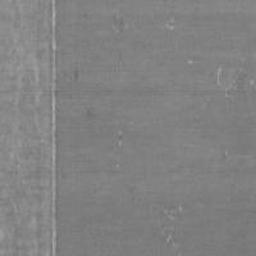Welding line: (50, 0, 59, 256)
